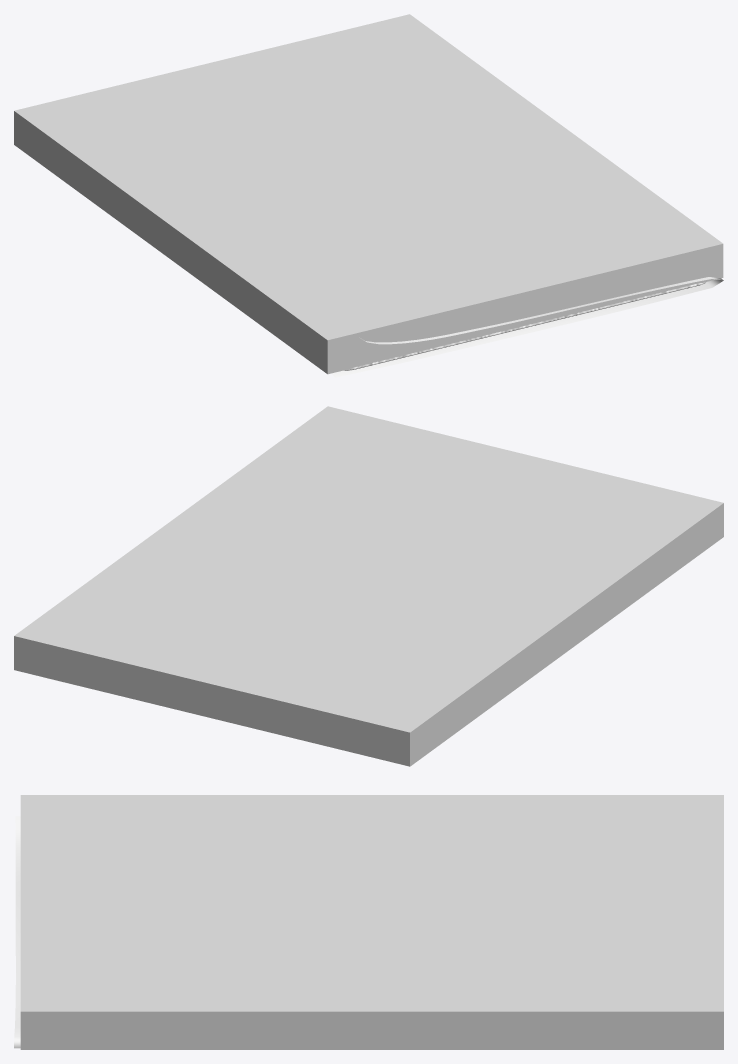
The model's file is magazine2.FBX.
3 renders of one model, top to bottom at view 1: azimuth 30°, elevation 25°; view 2: azimuth 150°, elevation 25°; view 3: azimuth 270°, elevation 25°, orthographic. The views are drawn at different scales.
Visible parts, largest first — view 1: magazine2, magazine, magazine inside; view 2: magazine2; view 3: magazine2, magazine.
Part boxes in pixels (x1,y1,x2,y2): magazine2: (14, 14, 723, 374); magazine: (332, 277, 723, 377); magazine inside: (344, 282, 706, 370); magazine2: (14, 406, 723, 766); magazine2: (20, 795, 723, 1049); magazine: (14, 816, 20, 1048).
Bounding box in the file's own units: 56.97 × 6.04 × 78.92.
2 materials, 2 textured.
